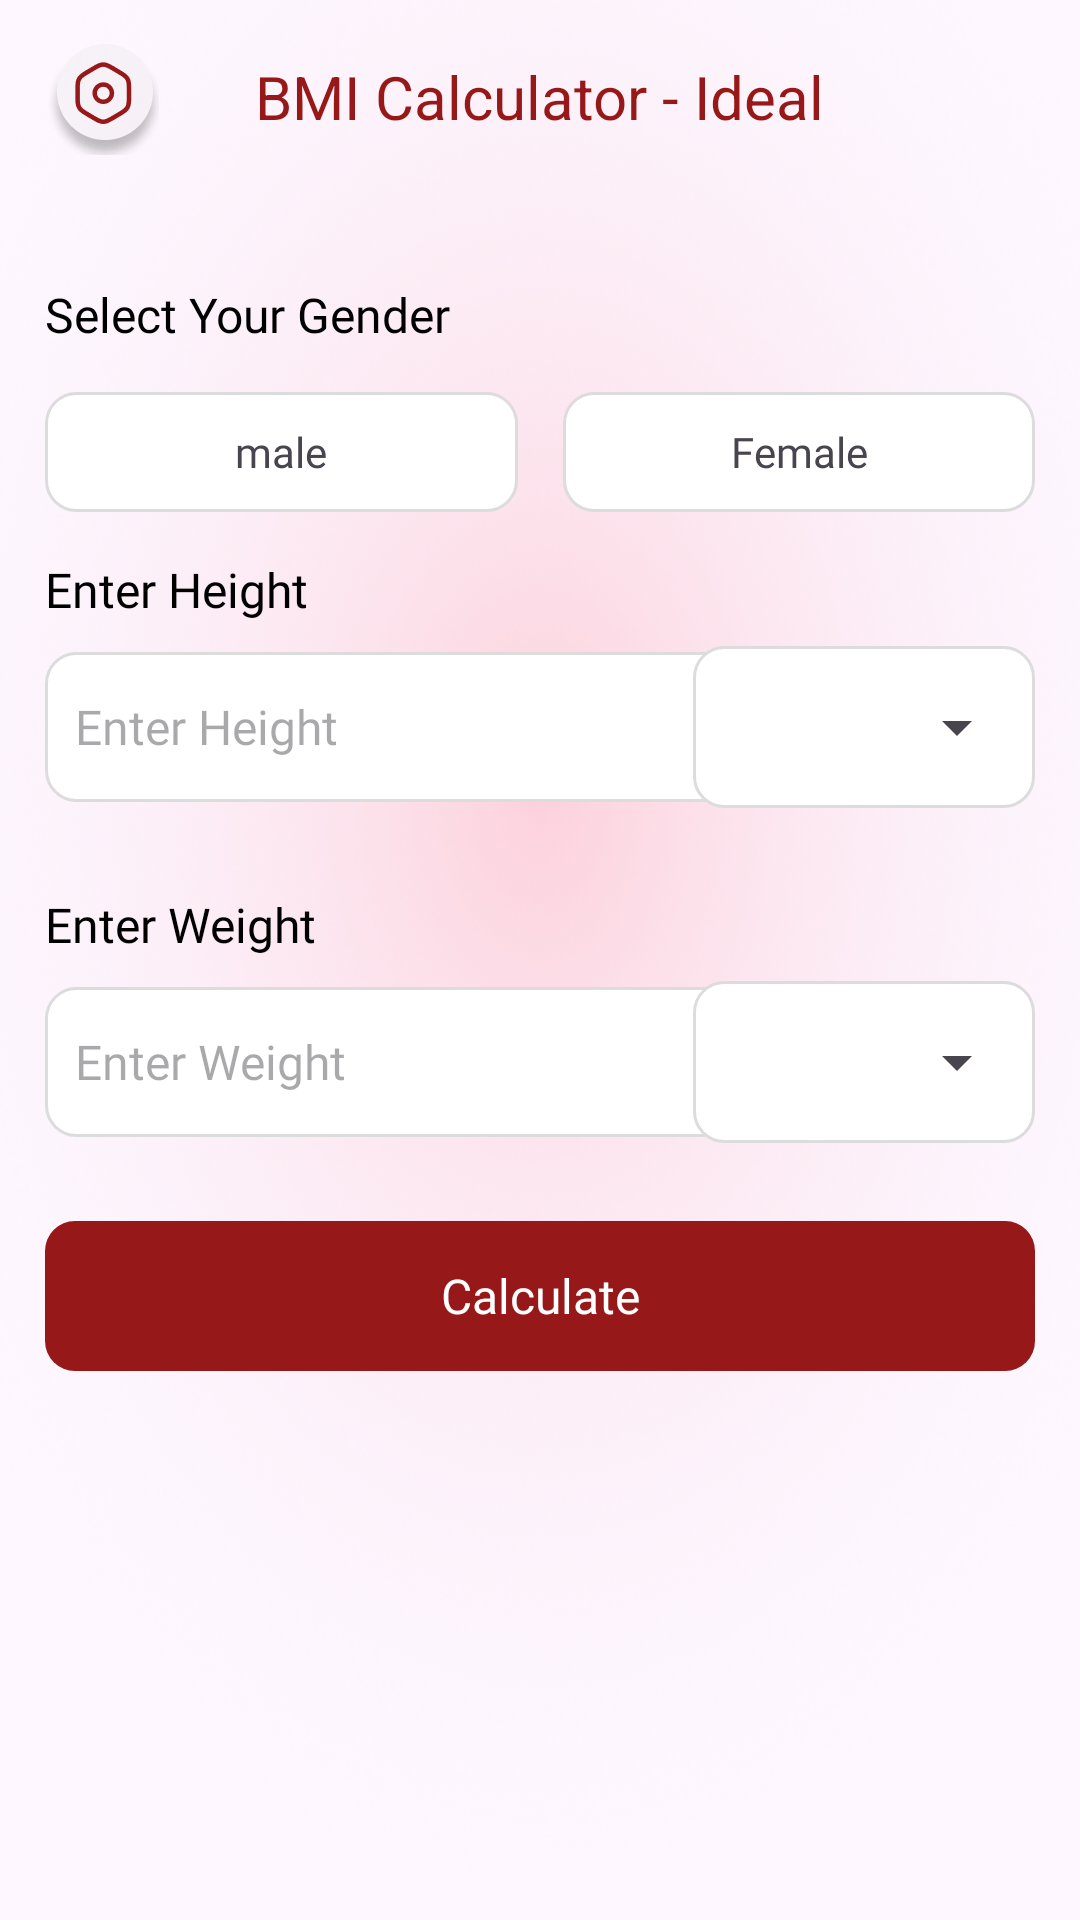

Point at icon controls on the screen. Image size 1080x1920, points as [x,y].
setting: [105,108]
